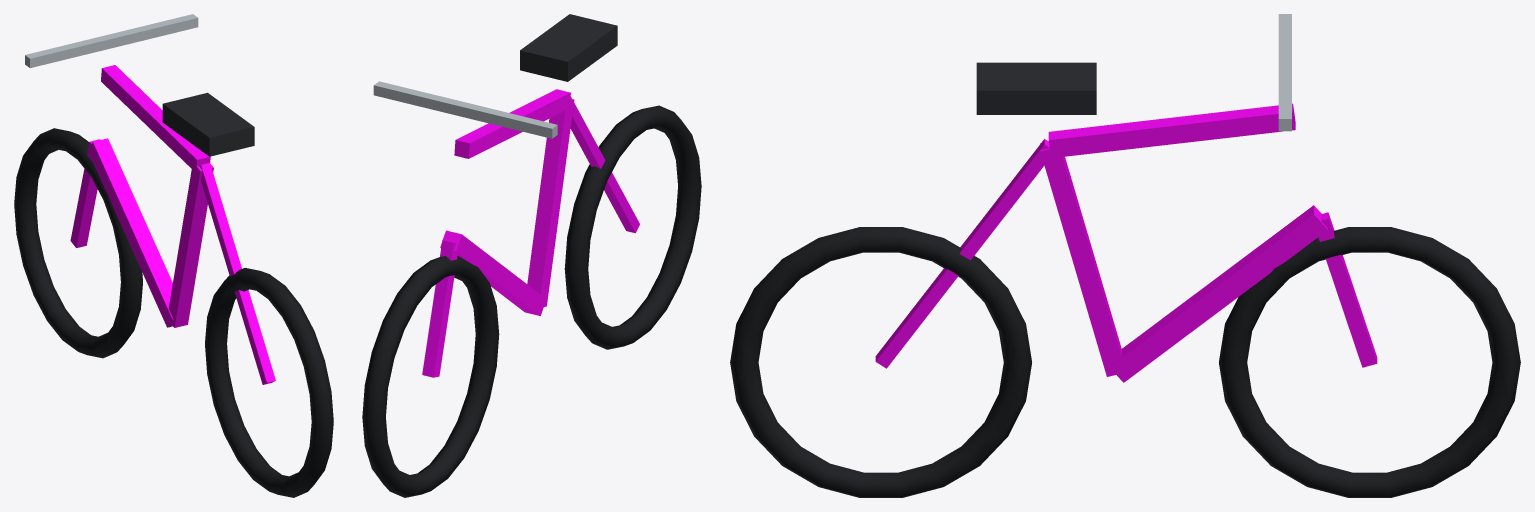
The model's file is parked-bike.obj.
3 renders of one model, left to right at view 1: azimuth 30°, elevation 25°; view 2: azimuth 150°, elevation 25°; view 3: azimuth 270°, elevation 25°, orthographic. The views are drawn at different scales.
Visible parts, largest first — view 1: part2, part1, part4, part8, part5, part6, part3, part9.nocast, part7; view 2: part1, part2, part8, part5, part9.nocast, part4, part3, part7, part6; view 3: part2, part1, part4, part8, part3, part5, part6, part7, part9.nocast.
Boxes of the visible parts, <box> form: part2: <box>205,268,333,497</box>; part1: <box>14,128,142,358</box>; part4: <box>87,138,173,327</box>; part8: <box>162,92,254,156</box>; part5: <box>168,164,213,327</box>; part6: <box>199,163,275,384</box>; part3: <box>101,65,210,172</box>; part9.nocast: <box>25,14,198,68</box>; part7: <box>70,139,100,247</box>; part1: <box>362,256,499,497</box>; part2: <box>564,105,701,349</box>; part8: <box>520,14,617,81</box>; part5: <box>527,99,574,306</box>; part9.nocast: <box>373,81,557,138</box>; part4: <box>440,230,546,315</box>; part3: <box>454,89,570,158</box>; part7: <box>422,239,457,377</box>; part6: <box>570,96,639,233</box>; part2: <box>730,227,1031,497</box>; part1: <box>1219,227,1520,497</box>; part4: <box>1109,205,1327,382</box>; part8: <box>976,62,1096,114</box>; part3: <box>1048,103,1295,157</box>; part5: <box>1040,141,1121,376</box>; part6: <box>875,139,1049,368</box>; part7: <box>1318,212,1377,367</box>; part9.nocast: <box>1278,14,1291,131</box>.
Bounding box in the file's own units: 0.56 × 1.07 × 1.78.
